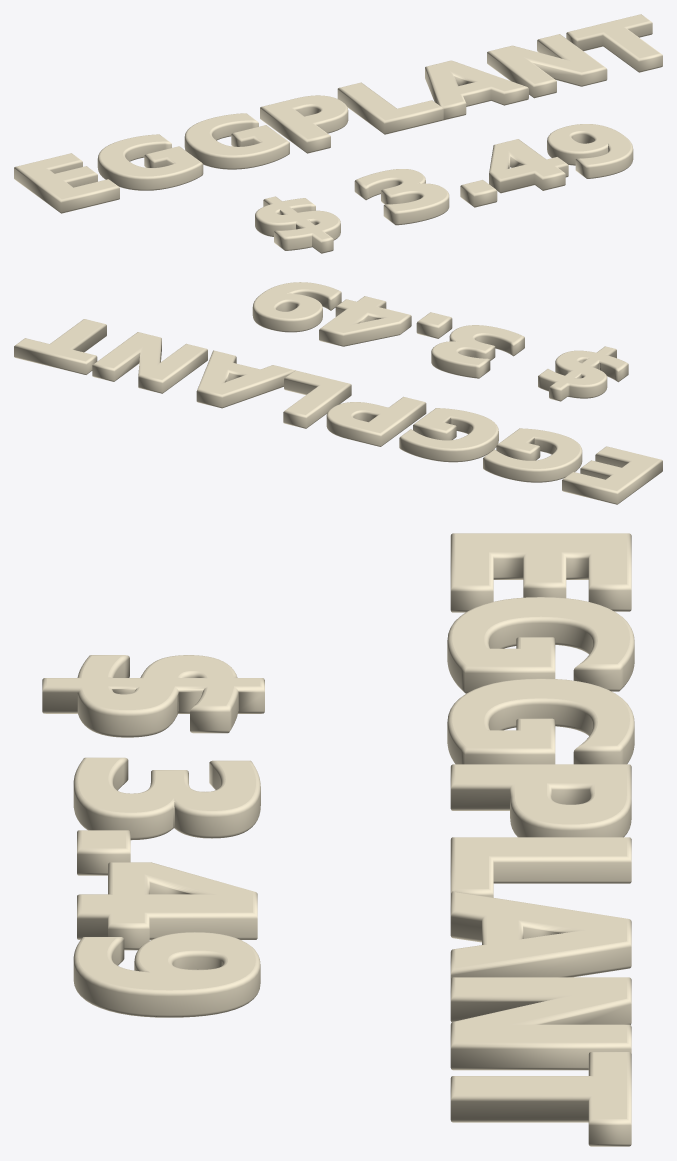
File: SM_EG_Produce_price_8886a191f4.fbx
The picture shows the model from 3 angles, top to bottom: view 1: azimuth 30°, elevation 25°; view 2: azimuth 150°, elevation 25°; view 3: azimuth 270°, elevation 25°; orthographic projection. The views are drawn at different scales.
Parts seen in each view (by area): view 1: SM_EG_Produce_price_8886a191f4; view 2: SM_EG_Produce_price_8886a191f4; view 3: SM_EG_Produce_price_8886a191f4.
Part boxes in pixels (bbox=[...]): SM_EG_Produce_price_8886a191f4: bbox=[14, 14, 662, 253]; SM_EG_Produce_price_8886a191f4: bbox=[14, 282, 662, 504]; SM_EG_Produce_price_8886a191f4: bbox=[42, 533, 634, 1146].
Bounding box in the file's own units: 20.51 × 8.72 × 0.44.
